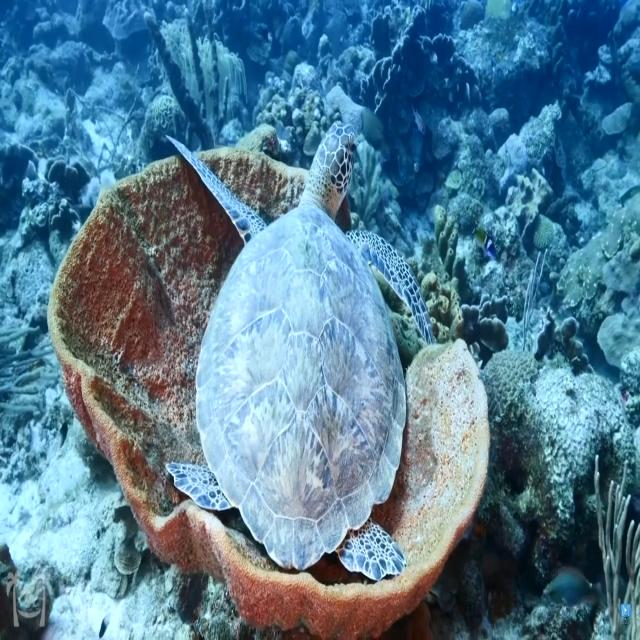Sea turtle: (165, 126, 435, 586)
